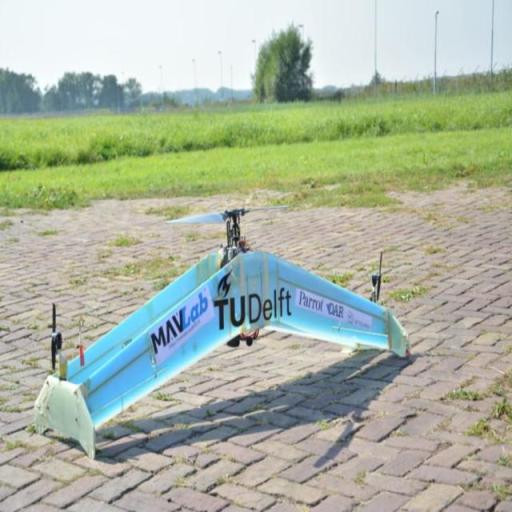uav: (18, 201, 418, 426)
